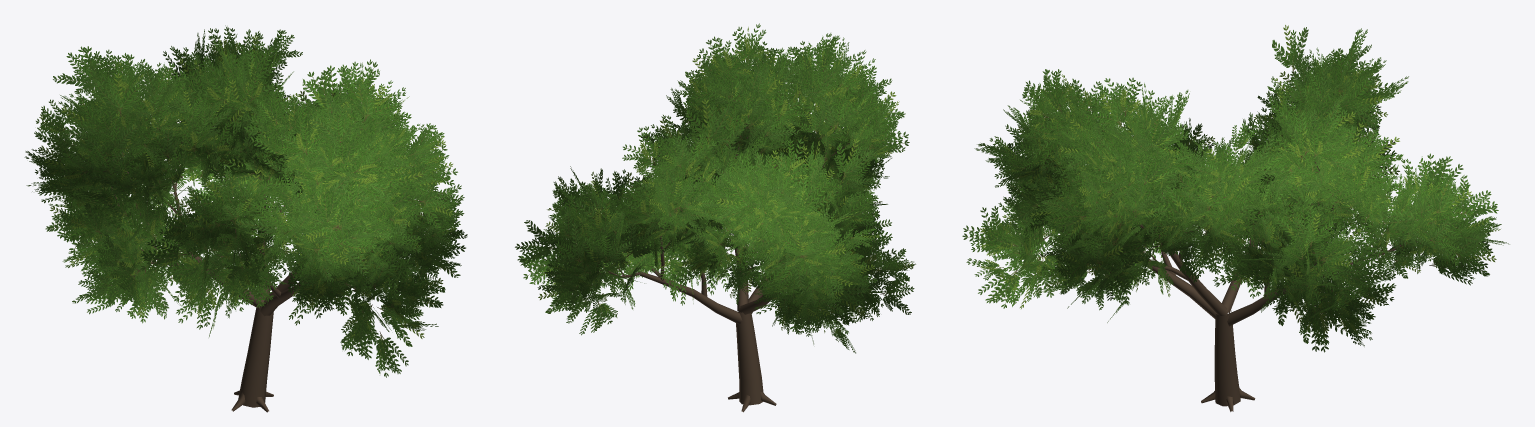
The model's file is tree_neem_1.glb.
3 renders of one model, left to right at view 1: azimuth 30°, elevation 25°; view 2: azimuth 150°, elevation 25°; view 3: azimuth 270°, elevation 25°, orthographic. The views are drawn at different scales.
Parts seen in each view (by area): view 1: Canopy, tree_neem_1; view 2: Canopy, tree_neem_1; view 3: Canopy, tree_neem_1.
Part boxes in pixels (<box>): Canopy: <box>24,25,467,377</box>; tree_neem_1: <box>99,116,370,412</box>; Canopy: <box>515,23,915,353</box>; tree_neem_1: <box>600,123,849,412</box>; Canopy: <box>962,25,1509,352</box>; tree_neem_1: <box>1037,162,1418,411</box>.
Size of the model in its own units: 10.01 by 9.18 by 13.1.
Materials: 2 (1 with a texture image).
